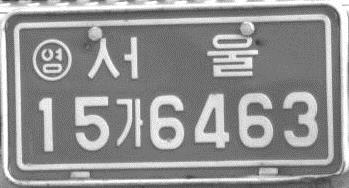1: (35, 94, 59, 153)
3: (282, 90, 319, 148)
4: (192, 92, 231, 150)
5: (72, 94, 112, 152)
6: (148, 92, 187, 151), (236, 90, 275, 149)
가: (113, 94, 143, 148)
서울_D: (85, 30, 260, 84)
영: (32, 36, 72, 82)
